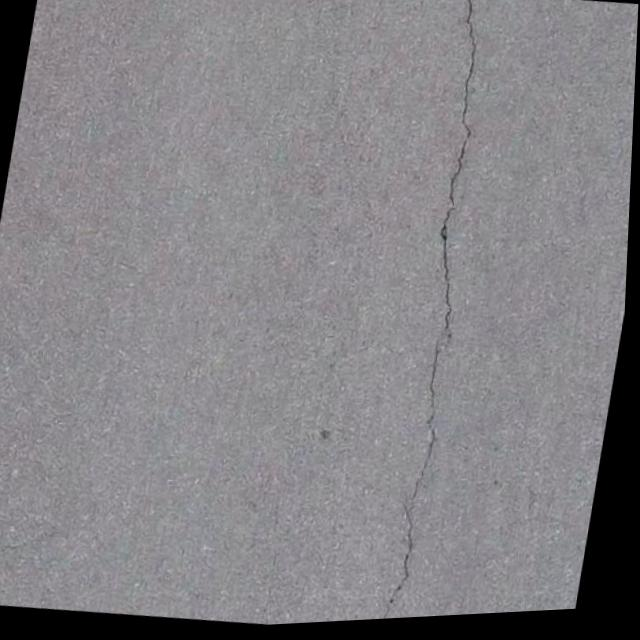Crack: (391, 0, 504, 315), (355, 343, 469, 625)
